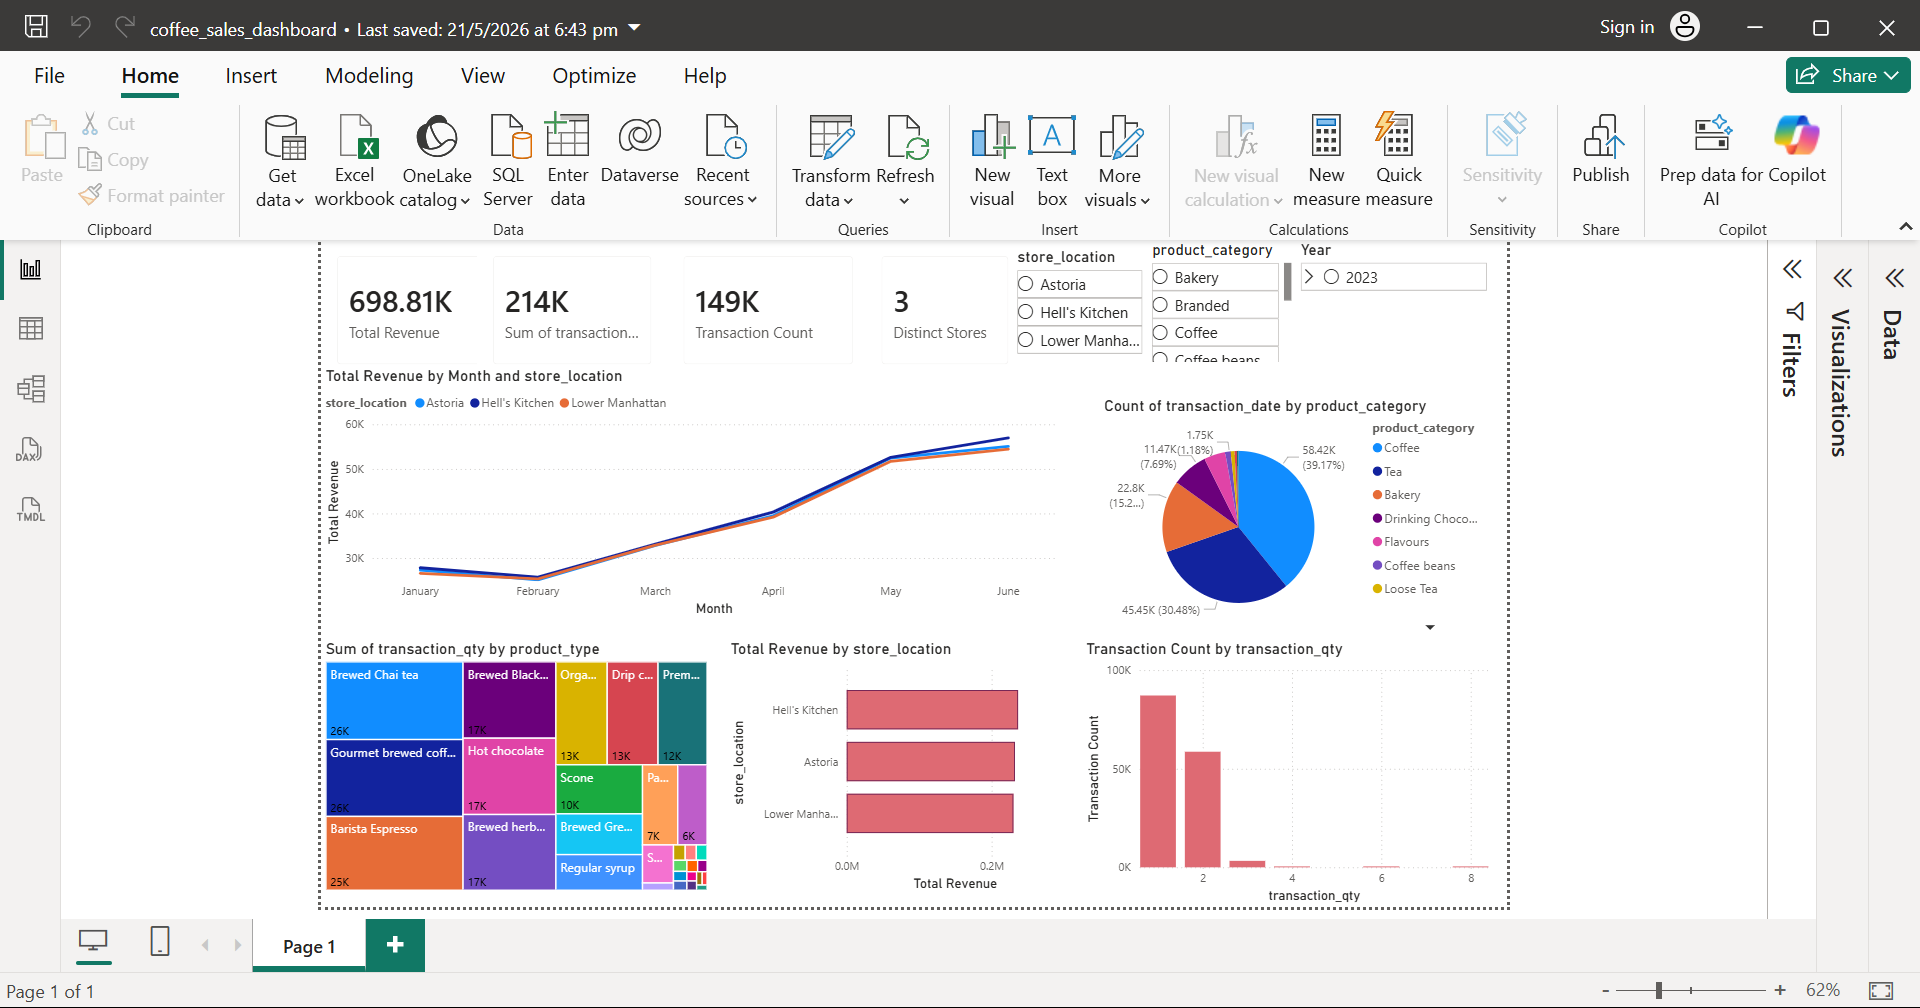

The dashboard page shown, as its layout file describes it:
{"tool":"powerbi","page":{"name":"Page 1","canvas":[1280,720],"ordinal":0},"visuals":[{"type":"pieChart","fields":{"Category":["Transactions.product_category"],"Y":["CountNonNull(Transactions.transaction_date)"]},"box":[841,168.2,423.3,262.7],"z":0},{"type":"clusteredBarChart","fields":{"Y":["Transactions.revenue"],"Category":["Transactions.store_location"]},"box":[436.5,430.9,383.6,275.9],"z":1000},{"type":"treemap","fields":{"Group":["Transactions.product_type"],"Values":["Sum(Transactions.transaction_qty)"]},"box":[0,430.9,421.4,275.9],"z":2000},{"type":"cardVisual","box":[0,20.8,270.2,177.6],"z":2001},{"type":"cardVisual","fields":{"Data":["Transactions.Total Revenue"]},"box":[0,0,217.3,151.2],"z":2002},{"type":"cardVisual","fields":{"Data":["Transactions.Transaction Count"]},"box":[374.2,0,217.3,151.2],"z":2003},{"type":"cardVisual","fields":{"Data":["Sum(Transactions.transaction_qty)"]},"box":[168.2,0,206,151.2],"z":2004},{"type":"cardVisual","fields":{"Data":["Transactions.Distinct Stores"]},"box":[587.7,0,172,151.2],"z":2005},{"type":"lineChart","fields":{"Category":["Transactions.transaction_date.Variation.Date Hierarchy.Month"],"Y":["Transactions.Total Revenue"],"Series":["Transactions.store_location"]},"box":[0,136.1,797.5,274],"z":2006},{"type":"columnChart","fields":{"Category":["Transactions.transaction_qty"],"Y":["Transactions.Transaction Count"]},"box":[820.2,430.9,444.1,289.1],"z":2007},{"type":"listSlicer","fields":{"Values":["Transactions.store_location"]},"box":[746.5,7.6,145.5,136.1],"z":2008},{"type":"listSlicer","fields":{"Values":["Transactions.product_category"]},"box":[892,0,160.6,136.1],"z":2009},{"type":"listSlicer","fields":{"Values":["Transactions.transaction_date.Variation.Date Hierarchy.Year","Transactions.transaction_date.Variation.Date Hierarchy.Quarter","Transactions.transaction_date.Variation.Date Hierarchy.Month","Transactions.transaction_date.Variation.Date Hierarchy.Day"]},"box":[1052.6,0,211.7,149.3],"z":2010}]}

Visuals, with their boxes on the page's 1280x720 design canvas (x1, y1, x2, y2). These are canvas units, not pixel positions in the 1920x1008 screenshot, which may show the page scaled, cropped or inside an application window:
pieChart - Transactions.product_category x CountNonNull(Transactions.transaction_date): {"x1": 841, "y1": 168, "x2": 1264, "y2": 431}
clusteredBarChart - Transactions.revenue x Transactions.store_location: {"x1": 436, "y1": 431, "x2": 820, "y2": 707}
treemap - Transactions.product_type x Sum(Transactions.transaction_qty): {"x1": 0, "y1": 431, "x2": 421, "y2": 707}
cardVisual: {"x1": 0, "y1": 21, "x2": 270, "y2": 198}
cardVisual - Transactions.Total Revenue: {"x1": 0, "y1": 0, "x2": 217, "y2": 151}
cardVisual - Transactions.Transaction Count: {"x1": 374, "y1": 0, "x2": 592, "y2": 151}
cardVisual - Sum(Transactions.transaction_qty): {"x1": 168, "y1": 0, "x2": 374, "y2": 151}
cardVisual - Transactions.Distinct Stores: {"x1": 588, "y1": 0, "x2": 760, "y2": 151}
lineChart - Transactions.transaction_date.Variation.Date Hierarchy.Month x Transactions.Total Revenue: {"x1": 0, "y1": 136, "x2": 798, "y2": 410}
columnChart - Transactions.transaction_qty x Transactions.Transaction Count: {"x1": 820, "y1": 431, "x2": 1264, "y2": 720}
listSlicer - Transactions.store_location: {"x1": 746, "y1": 8, "x2": 892, "y2": 144}
listSlicer - Transactions.product_category: {"x1": 892, "y1": 0, "x2": 1053, "y2": 136}
listSlicer - Transactions.transaction_date.Variation.Date Hierarchy.Year x Transactions.transaction_date.Variation.Date Hierarchy.Quarter: {"x1": 1053, "y1": 0, "x2": 1264, "y2": 149}
